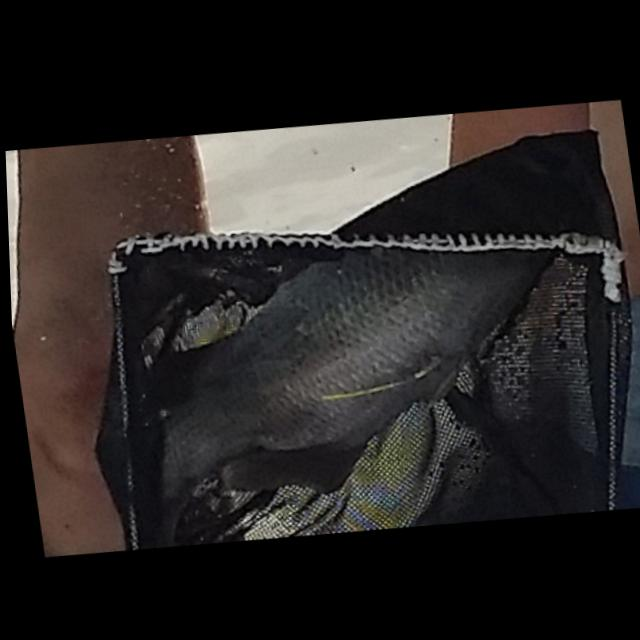Seabass: (105, 118, 640, 515)
